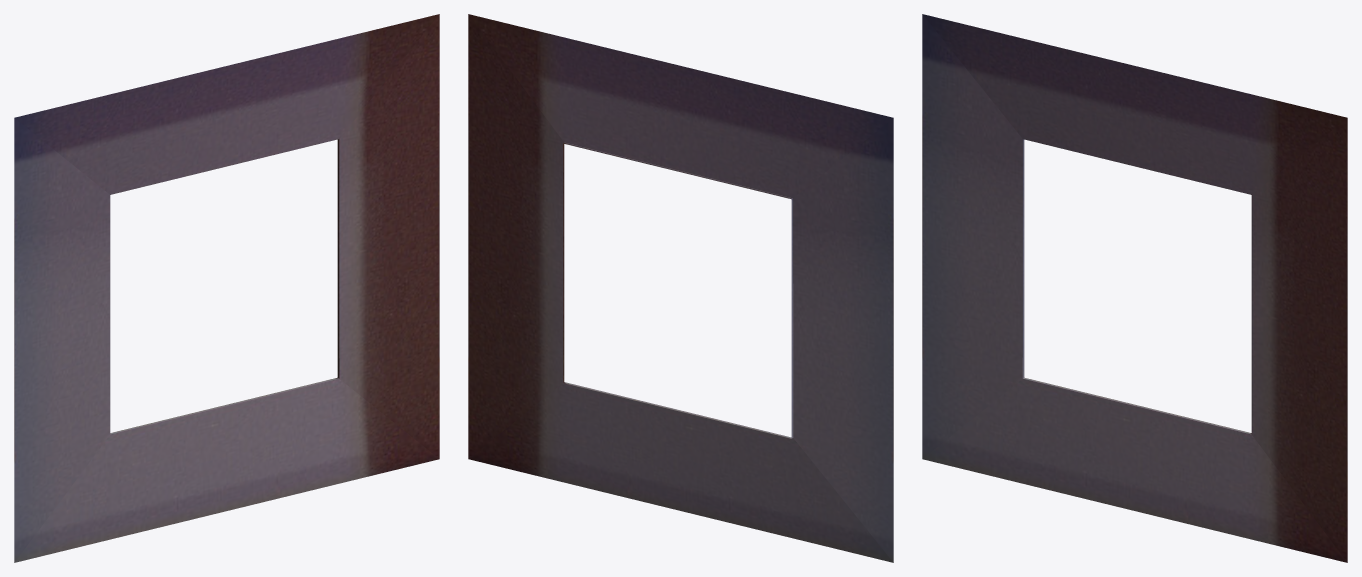
File: brique_marie_louise.glb
3 renders of one model, left to right at view 1: azimuth 30°, elevation 25°; view 2: azimuth 150°, elevation 25°; view 3: azimuth 330°, elevation 25°, orthographic.
Visible parts, largest first — view 1: brique_marie_louise; view 2: brique_marie_louise; view 3: brique_marie_louise.
Part boxes in pixels (x1,y1,x2,y2): brique_marie_louise: (14,14,439,562); brique_marie_louise: (468,14,893,562); brique_marie_louise: (922,14,1347,562).
Bounding box in the file's own units: 1.79 × 1.79 × 0.0274.
Materials: 1 (1 with a texture image).
